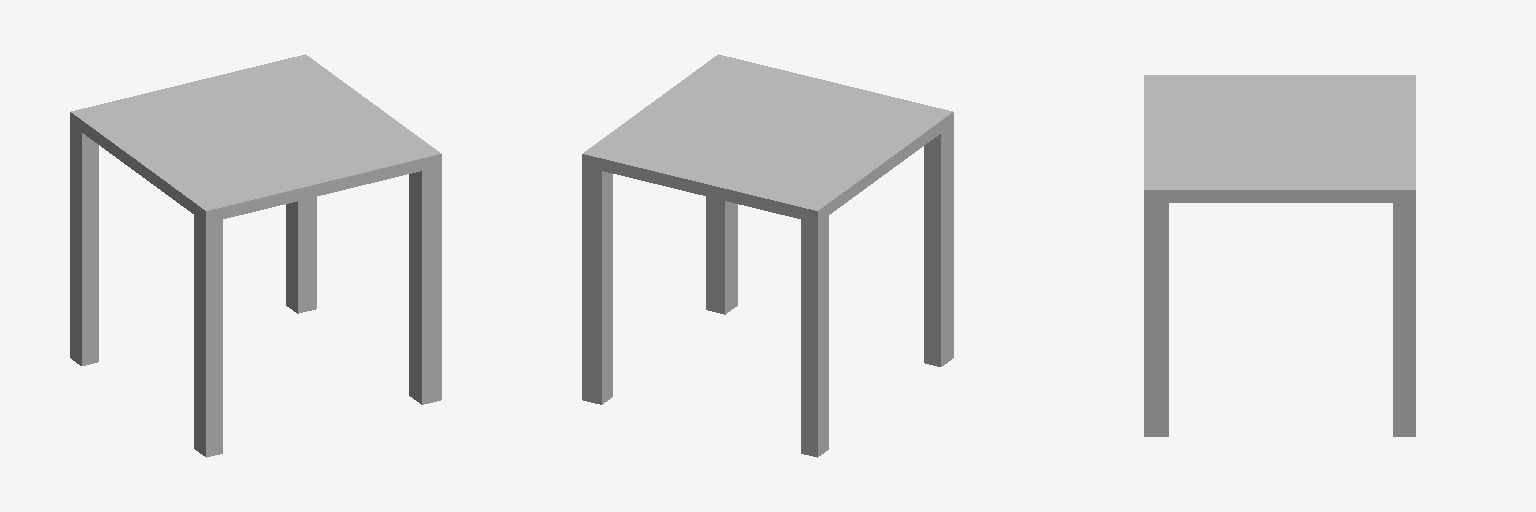
File: tableserieuse.obj
3 renders of one model, left to right at view 1: azimuth 30°, elevation 25°; view 2: azimuth 150°, elevation 25°; view 3: azimuth 270°, elevation 25°, orthographic.
Visible parts, largest first — view 1: Cube; view 2: Cube; view 3: Cube.
Boxes of the visible parts, x1,y1,x2,y2 form: Cube: [70, 54, 441, 457]; Cube: [582, 54, 953, 457]; Cube: [1144, 75, 1415, 436].
Bounding box in the file's own units: 1 × 1 × 1.